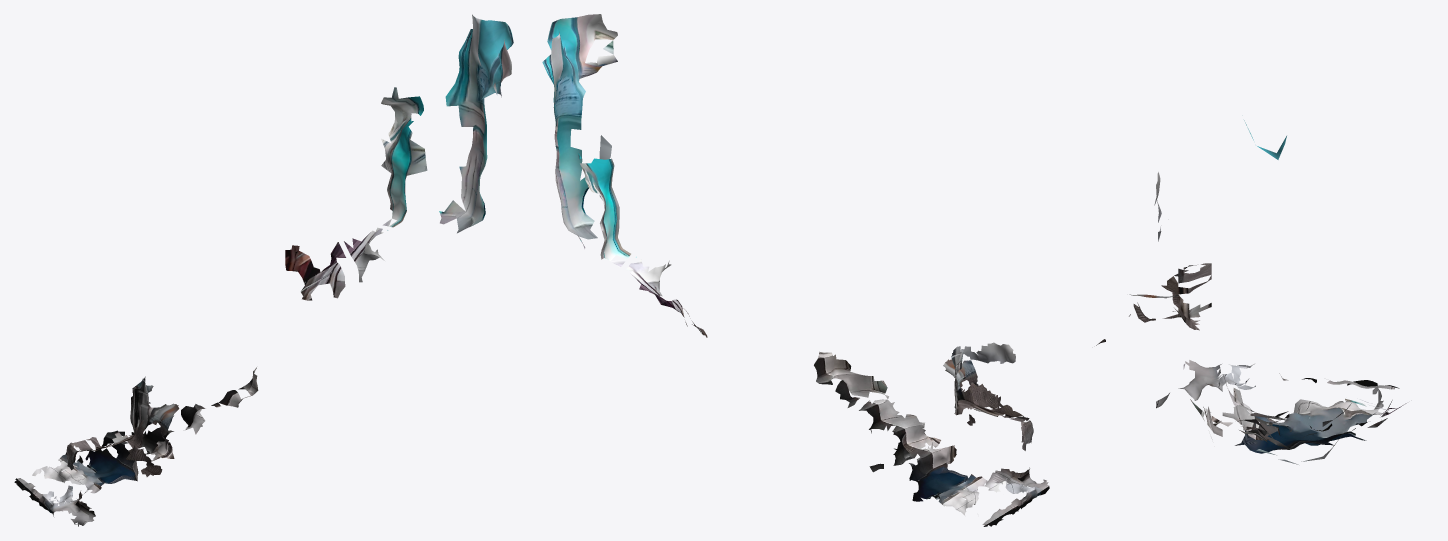
File: 121477-LobbyAA-tex.glb
The picture shows the model from 3 angles, left to right: view 1: azimuth 30°, elevation 25°; view 2: azimuth 150°, elevation 25°; view 3: azimuth 270°, elevation 25°; orthographic projection. The views are drawn at different scales.
Visible parts, largest first — view 1: Node; view 2: Node; view 3: Node.
Part boxes in pixels (<box>): Node: <box>14,14,513,526</box>; Node: <box>542,14,1049,526</box>; Node: <box>1096,120,1406,464</box>.
Bounding box in the file's own units: 6.75 × 5.06 × 2.17.
1 material, 1 textured.
